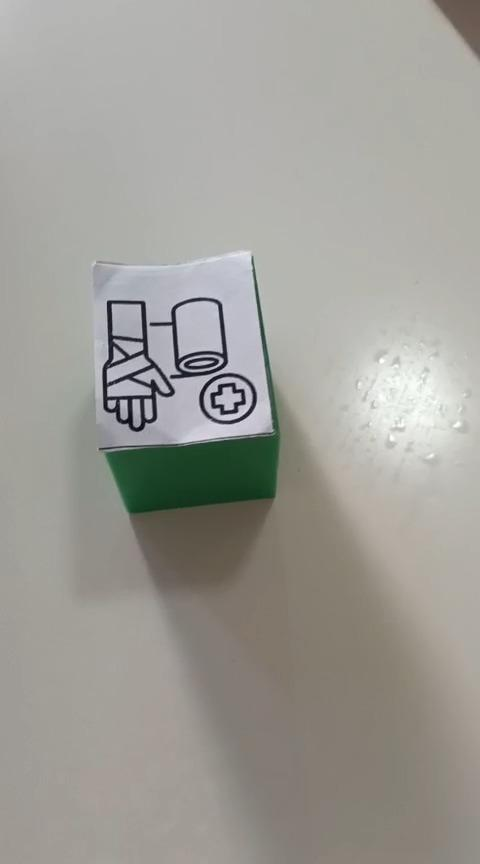Bandages: (90, 248, 281, 514)
